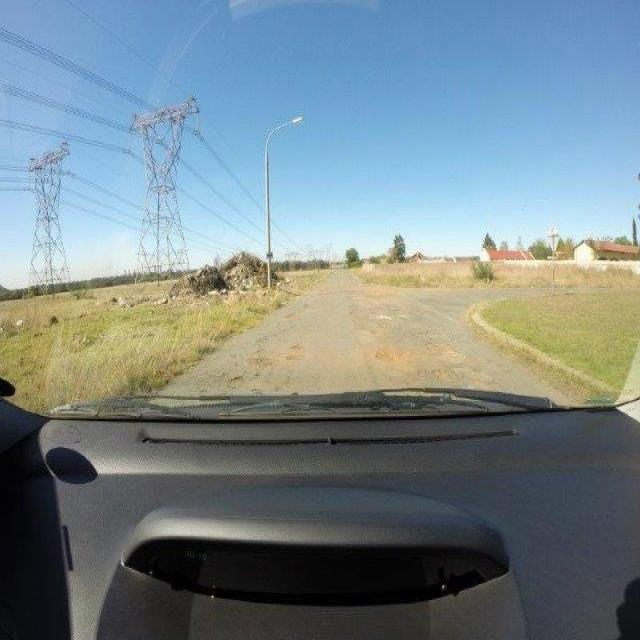lubang: (374, 342, 416, 370), (422, 338, 460, 360), (430, 365, 457, 386), (284, 338, 305, 362), (247, 352, 278, 367), (227, 372, 246, 386)
